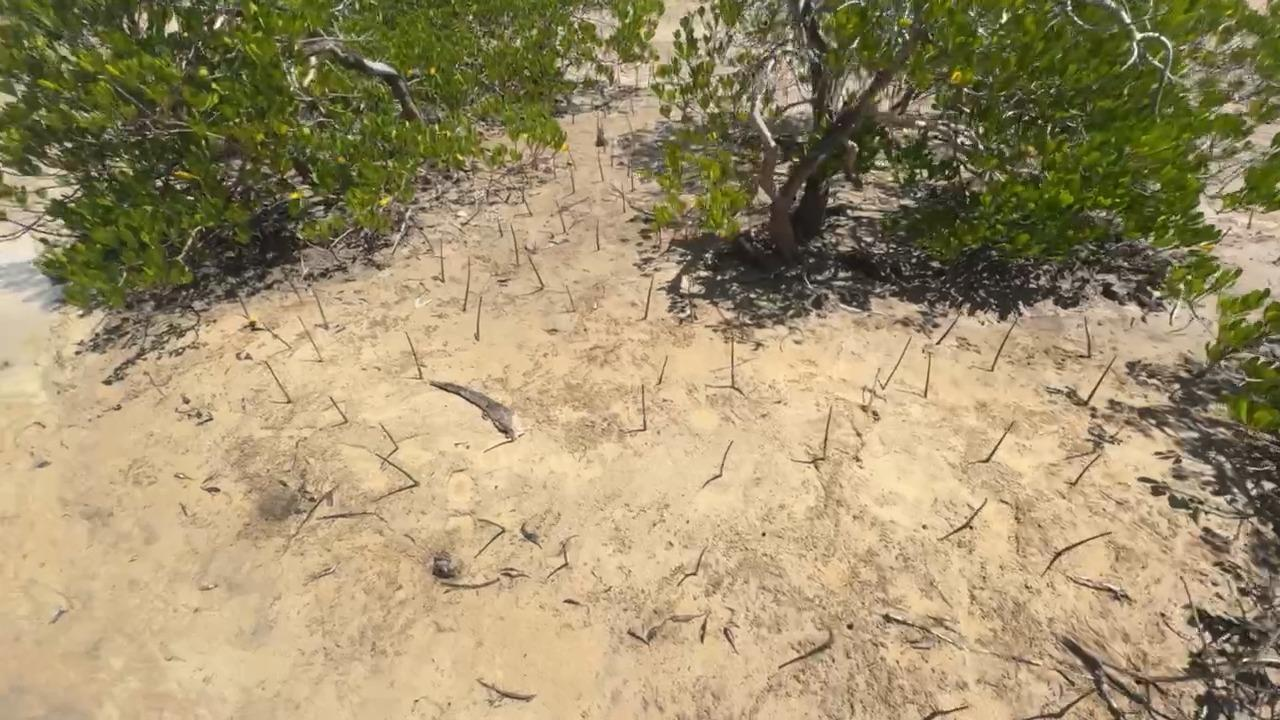Tree: (1083, 354, 1117, 404), (374, 452, 421, 486), (883, 336, 912, 390), (1057, 530, 1112, 557), (992, 317, 1018, 371), (985, 420, 1015, 465), (296, 315, 323, 361), (1056, 687, 1096, 718), (263, 360, 291, 402), (935, 310, 963, 345), (1072, 454, 1101, 486), (404, 331, 423, 378), (262, 321, 293, 349), (964, 496, 987, 528), (311, 288, 329, 326), (866, 367, 881, 411), (822, 406, 833, 460), (719, 440, 735, 477), (329, 396, 349, 423), (527, 255, 544, 286), (379, 422, 398, 449), (923, 350, 932, 398), (478, 517, 506, 532), (510, 225, 520, 265), (554, 200, 566, 233), (645, 276, 654, 319), (695, 546, 708, 575), (937, 705, 969, 716), (237, 294, 251, 319), (289, 279, 303, 303), (1083, 315, 1091, 357), (464, 256, 470, 311), (476, 296, 483, 341), (658, 355, 668, 385), (823, 631, 836, 652), (440, 238, 446, 283), (565, 285, 575, 311), (598, 150, 606, 182), (641, 383, 646, 431), (731, 332, 735, 386), (523, 197, 533, 216), (630, 160, 635, 192), (621, 182, 626, 213), (497, 215, 503, 238), (570, 167, 575, 194), (596, 218, 600, 251), (563, 543, 569, 564), (611, 137, 614, 168)
